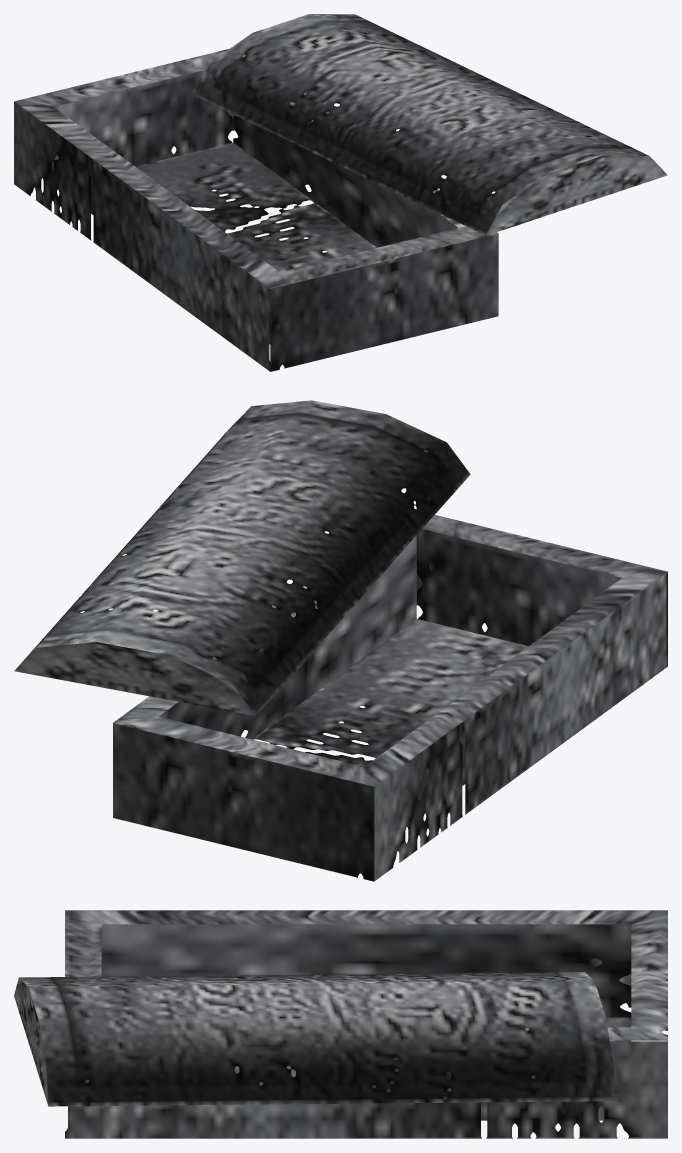
File: Tomb01.obj
The picture shows the model from 3 angles, top to bottom: view 1: azimuth 30°, elevation 25°; view 2: azimuth 150°, elevation 25°; view 3: azimuth 270°, elevation 25°; orthographic projection. The views are drawn at different scales.
Visible parts, largest first — view 1: Mesh_0; view 2: Mesh_0; view 3: Mesh_0.
Boxes of the visible parts, left/top/right/bottom form: Mesh_0: left=14, top=14, right=667, bottom=371; Mesh_0: left=14, top=400, right=667, bottom=881; Mesh_0: left=14, top=910, right=667, bottom=1138.
Bounding box in the file's own units: 2.12 × 0.7563 × 2.62.
Materials: 1 (1 with a texture image).
